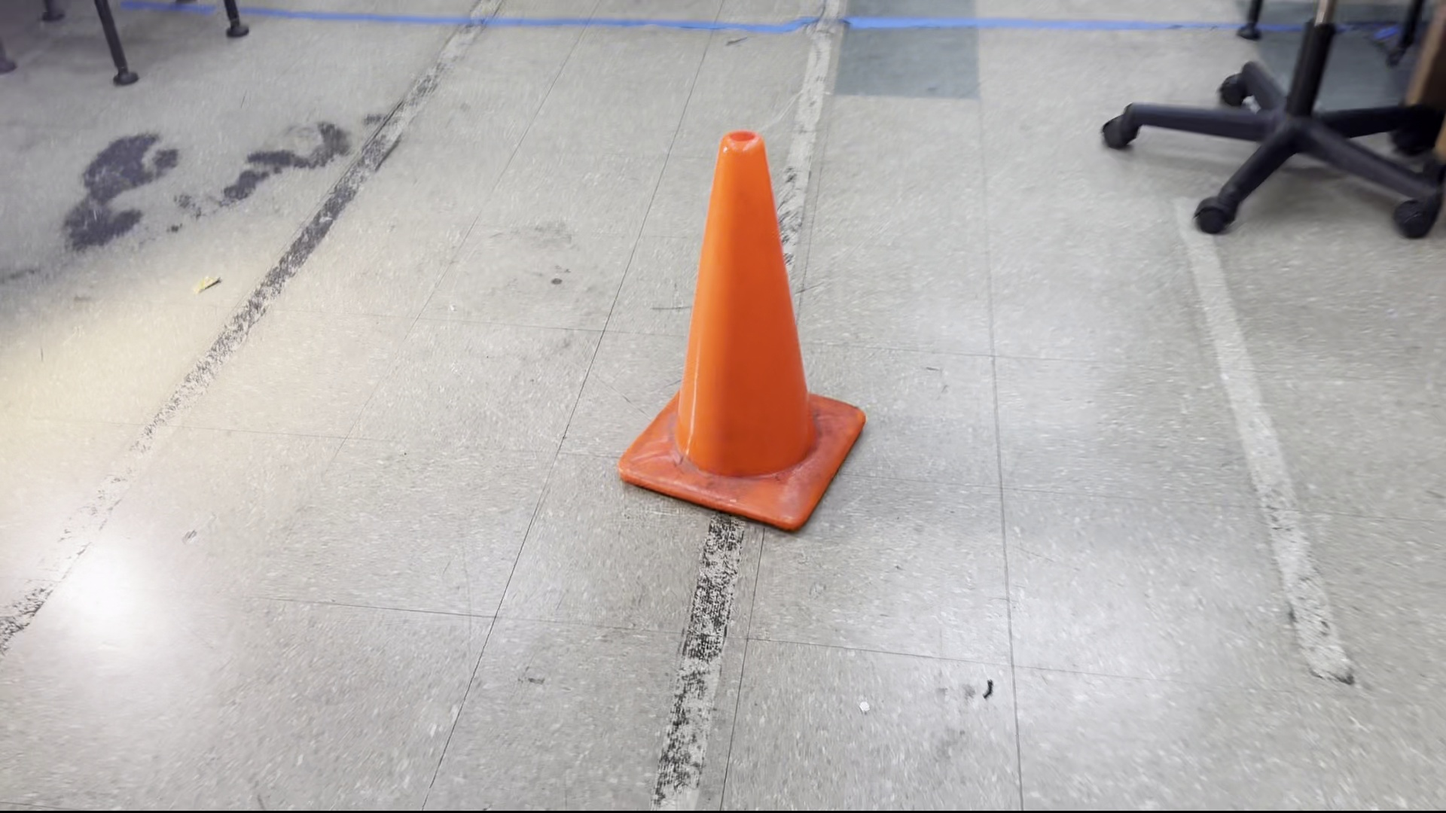traffic_cone: (616, 128, 867, 532)
